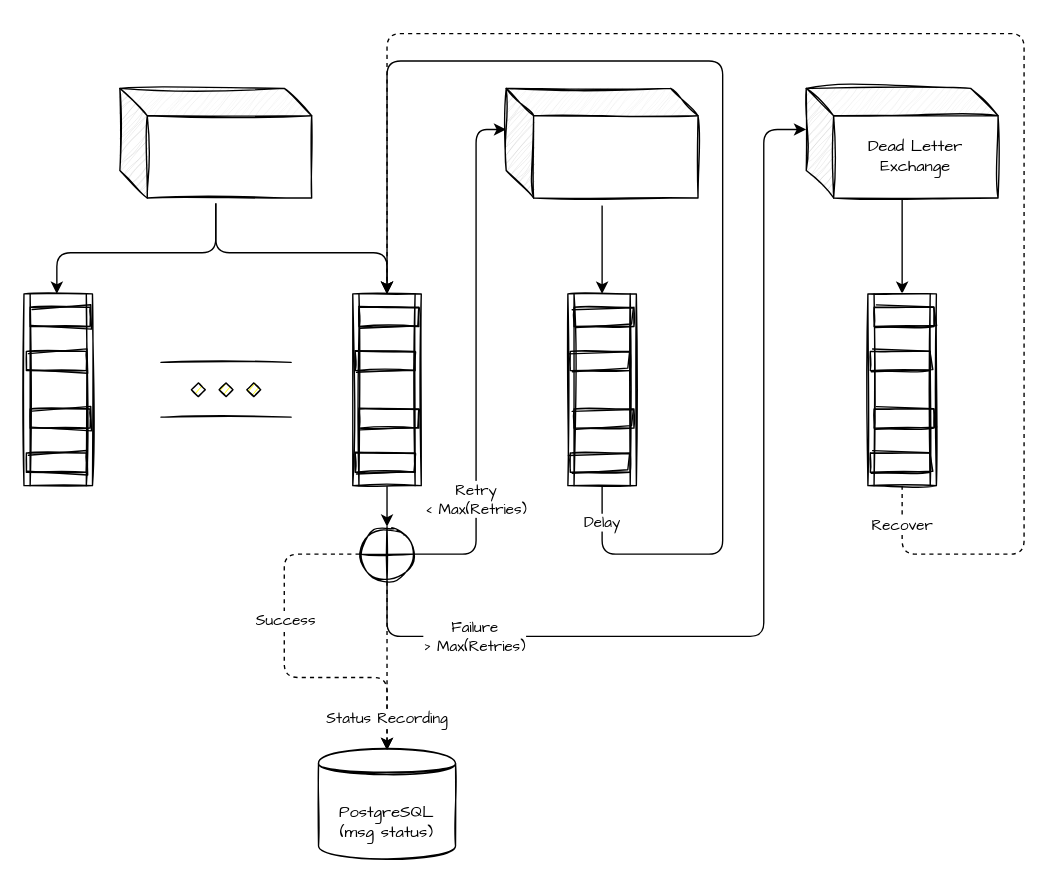
Some shapes in this 1059 by 884 pixel diagram are drawn without their labels. The centre of each missing label's shape, as x and y in pixels:
"Delay Message Exchange" goes at (x=601, y=142).
"Exchange" goes at (x=215, y=142).
